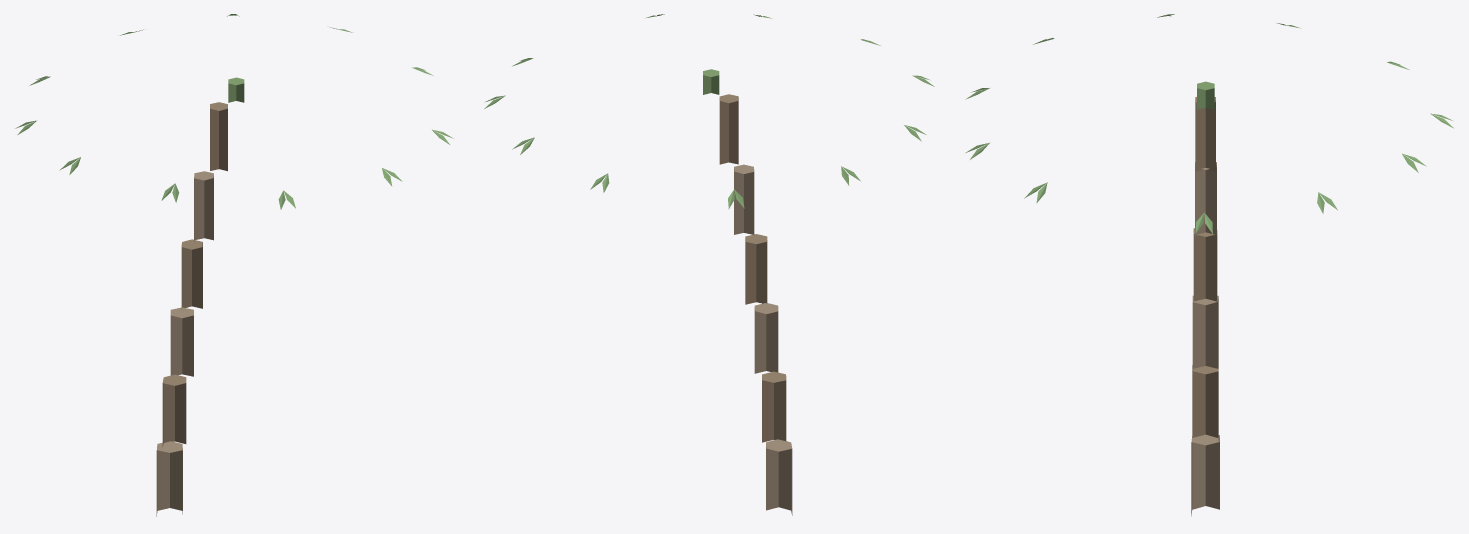
File: shu.yezi@subadult__bloom.glb
3 views of the same model, side by side, from view 1: azimuth 30°, elevation 25°; view 2: azimuth 150°, elevation 25°; view 3: azimuth 270°, elevation 25° (orthographic). The views are drawn at different scales.
Parts seen in each view (by area): view 1: shu.yezi@subadult__bloom; view 2: shu.yezi@subadult__bloom; view 3: shu.yezi@subadult__bloom.
Part boxes in pixels (x1=…): shu.yezi@subadult__bloom: x1=15, y1=14, x2=453, y2=516; shu.yezi@subadult__bloom: x1=484, y1=14, x2=934, y2=515; shu.yezi@subadult__bloom: x1=965, y1=14, x2=1453, y2=516.
Bounding box in the file's own units: 6.2 × 6.55 × 6.13.
